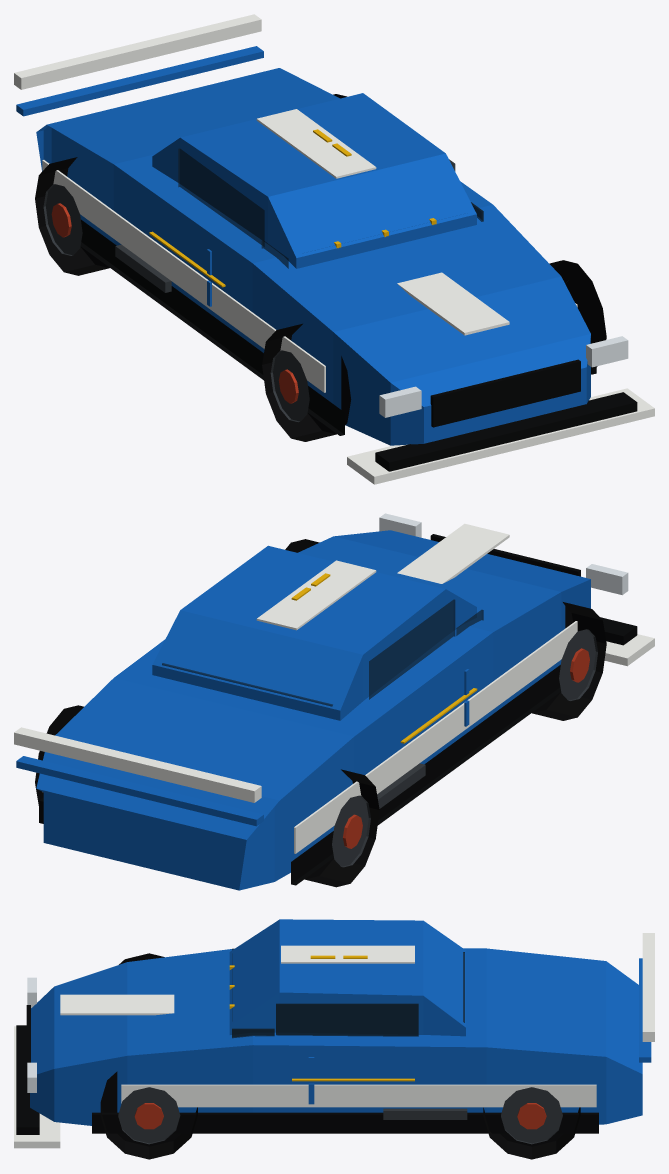
Rendered from stock_car_01.obj.
The picture shows the model from 3 angles, top to bottom: view 1: azimuth 30°, elevation 25°; view 2: azimuth 150°, elevation 25°; view 3: azimuth 270°, elevation 25°; orthographic projection. The views are drawn at different scales.
Parts seen in each view (by area): view 1: StockCar_01; view 2: StockCar_01; view 3: StockCar_01.
Boxes of the visible parts, x1,y1,x2,y2 form: StockCar_01: (14, 14, 654, 484); StockCar_01: (14, 513, 654, 890); StockCar_01: (14, 919, 654, 1159).
Bounding box in the file's own units: 2.35 × 1.34 × 5.26.
